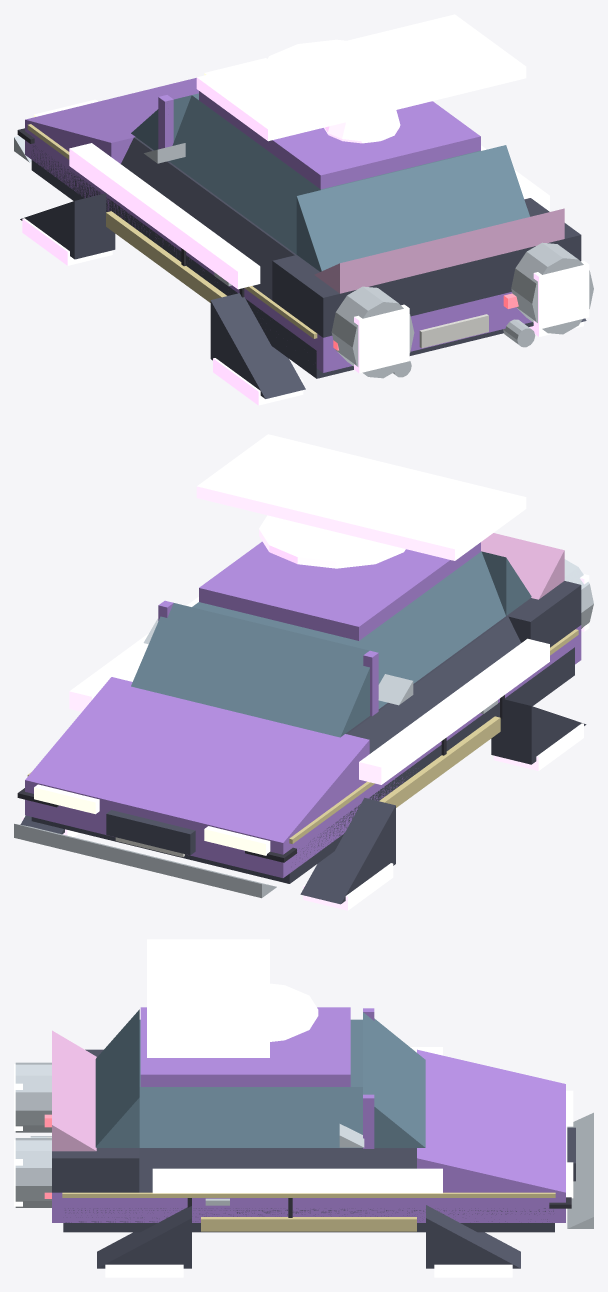
File: neon_lifter.glb
3 views of the same model, one above another, from view 1: azimuth 30°, elevation 25°; view 2: azimuth 150°, elevation 25°; view 3: azimuth 270°, elevation 25° (orthographic). The views are drawn at different scales.
Visible parts, largest first — view 1: SolarSail.014, RearWindow.199, CabinSideL.096, Roof.299, Tail.099, Ducktail.069, FloatFin-1.041, Body.299, ShoulderL.096, Nose.096, HoverPodWheel_RL.041, Sill.295 (+16 smaller); view 2: Nose.096, SolarSail.014, Windshield.199, Roof.299, CabinSideL.096, Body.299, FloatFin-1.041, ShoulderL.096, HoverPodWheel_FL.041, Sill.295, HaloRing.010, Bumper.295 (+16 smaller); view 3: Nose.096, SolarSail.014, CabinSideR.096, Body.299, Roof.299, FloatFin1.041, Windshield.199, ShoulderR.096, RearWindow.199, Ducktail.069, Tail.099, HoverPodWheel_FR.041 (+13 smaller).
Part boxes in pixels (left/top/right/bottom): SolarSail.014: left=196, top=14, right=526, bottom=141; RearWindow.199: left=296, top=145, right=529, bottom=271; CabinSideL.096: left=169, top=95, right=320, bottom=254; Roof.299: left=199, top=91, right=480, bottom=189; Tail.099: left=272, top=198, right=581, bottom=337; Ducktail.069: left=314, top=208, right=564, bottom=293; FloatFin-1.041: left=69, top=143, right=260, bottom=289; Body.299: left=25, top=120, right=531, bottom=372; ShoulderL.096: left=121, top=138, right=294, bottom=300; Nose.096: left=25, top=78, right=198, bottom=163; HoverPodWheel_RL.041: left=210, top=293, right=305, bottom=398; Sill.295: left=31, top=145, right=533, bottom=378; Nose.096: left=25, top=677, right=369, bottom=842; SolarSail.014: left=196, top=434, right=526, bottom=560; Windshield.199: left=131, top=603, right=369, bottom=737; Roof.299: left=199, top=541, right=480, bottom=640; CabinSideL.096: left=352, top=551, right=505, bottom=708; Body.299: left=25, top=625, right=581, bottom=877; FloatFin-1.041: left=359, top=638, right=549, bottom=784; ShoulderL.096: left=347, top=617, right=520, bottom=753; HoverPodWheel_FL.041: left=300, top=797, right=395, bottom=904; Sill.295: left=31, top=647, right=574, bottom=883; HaloRing.010: left=259, top=515, right=405, bottom=568; Bumper.295: left=14, top=823, right=276, bottom=898; Nose.096: left=417, top=1049, right=565, bottom=1192; SolarSail.014: left=147, top=939, right=269, bottom=1057; CabinSideR.096: left=139, top=1087, right=362, bottom=1147; Body.299: left=52, top=1192, right=565, bottom=1222; Roof.299: left=140, top=1007, right=350, bottom=1086; FloatFin1.041: left=152, top=1168, right=442, bottom=1193; Windshield.199: left=363, top=1012, right=425, bottom=1147; ShoulderR.096: left=139, top=1148, right=416, bottom=1192; RearWindow.199: left=95, top=1009, right=139, bottom=1147; Ducktail.069: left=52, top=1030, right=96, bottom=1151; Tail.099: left=52, top=1049, right=139, bottom=1192; HoverPodWheel_FR.041: left=426, top=1205, right=520, bottom=1268.
Bounding box in the file's own units: 2.9 × 2.13 × 5.19.
